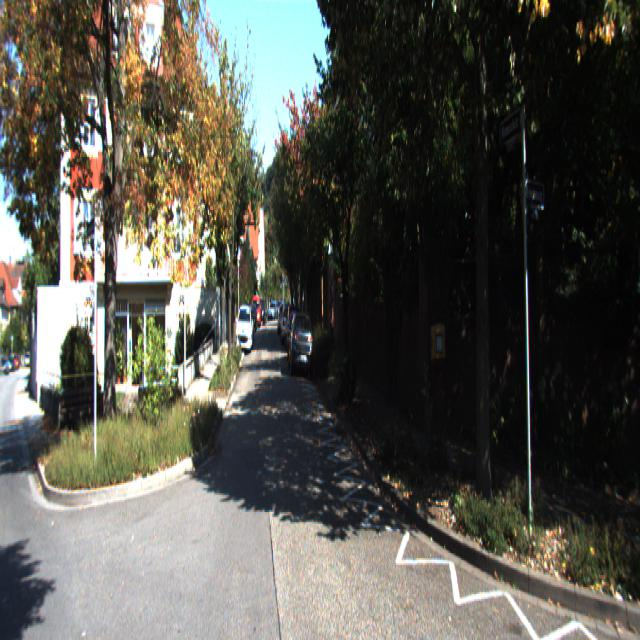Car: (286, 310, 314, 383), (235, 304, 253, 355)
